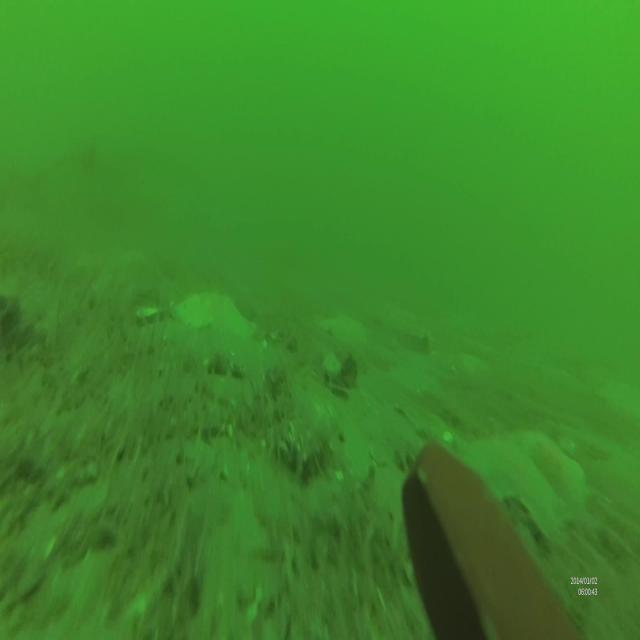starfish: (463, 428, 588, 542), (170, 283, 257, 342), (321, 308, 372, 352)
